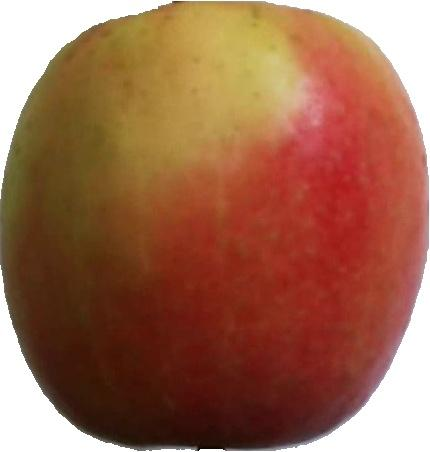fruit: (1, 2, 430, 452)
